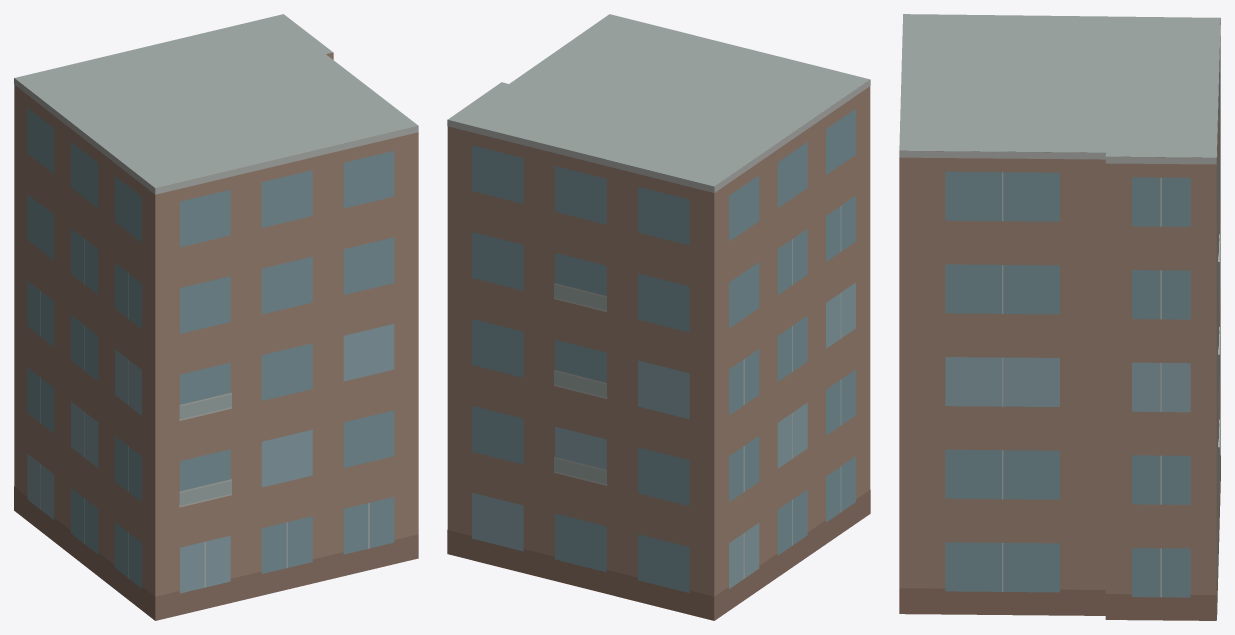
File: survey-upis-32598735.glb
3 views of the same model, side by side, from view 1: azimuth 30°, elevation 25°; view 2: azimuth 150°, elevation 25°; view 3: azimuth 270°, elevation 25° (orthographic). The views are drawn at different scales.
Parts seen in each view (by area): view 1: survey-upis-32598735.tmp; view 2: survey-upis-32598735.tmp; view 3: survey-upis-32598735.tmp.
Part boxes in pixels (bbox=[...]): survey-upis-32598735.tmp: bbox=[14, 14, 418, 620]; survey-upis-32598735.tmp: bbox=[447, 14, 870, 620]; survey-upis-32598735.tmp: bbox=[899, 14, 1220, 620].
Size of the model in its own units: 10.88 by 16.36 by 10.3.
